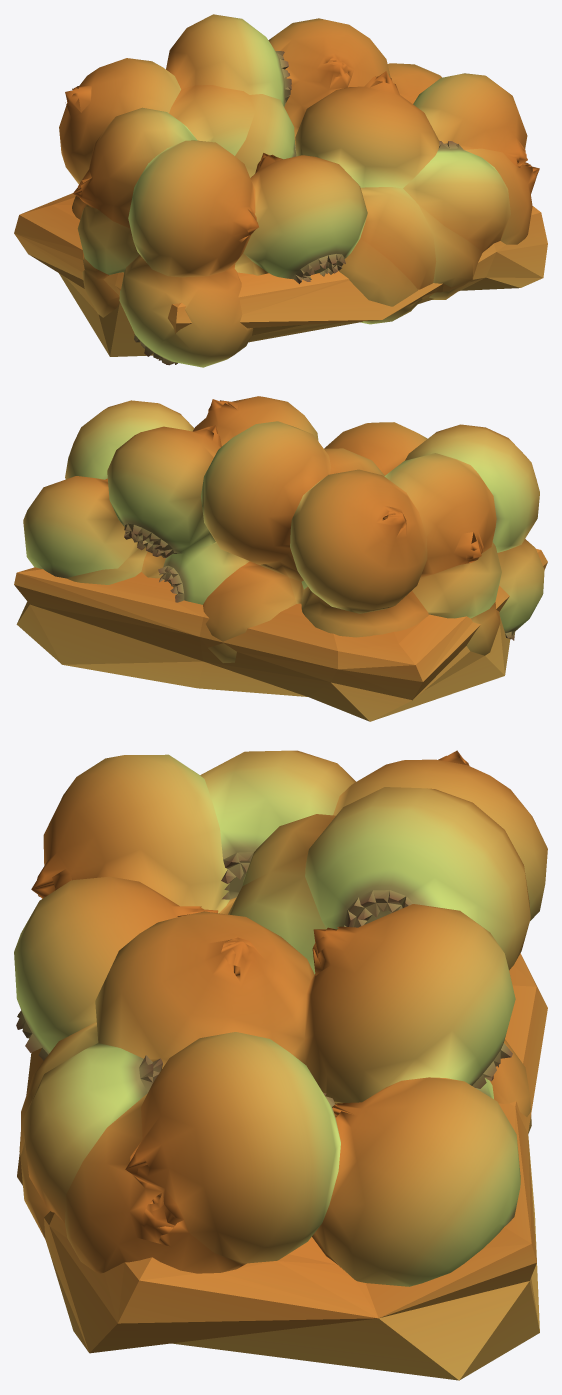
The model's file is onions_pile.fbx.
3 views of the same model, one above another, from view 1: azimuth 30°, elevation 25°; view 2: azimuth 150°, elevation 25°; view 3: azimuth 270°, elevation 25° (orthographic). The views are drawn at different scales.
Parts seen in each view (by area): view 1: onions_pile; view 2: onions_pile; view 3: onions_pile.
Part boxes in pixels (x1,y1,x2,y2): onions_pile: (14, 14, 547, 367); onions_pile: (14, 396, 547, 721); onions_pile: (14, 750, 547, 1380).
Size of the model in its own units: 416 by 236 by 278.
